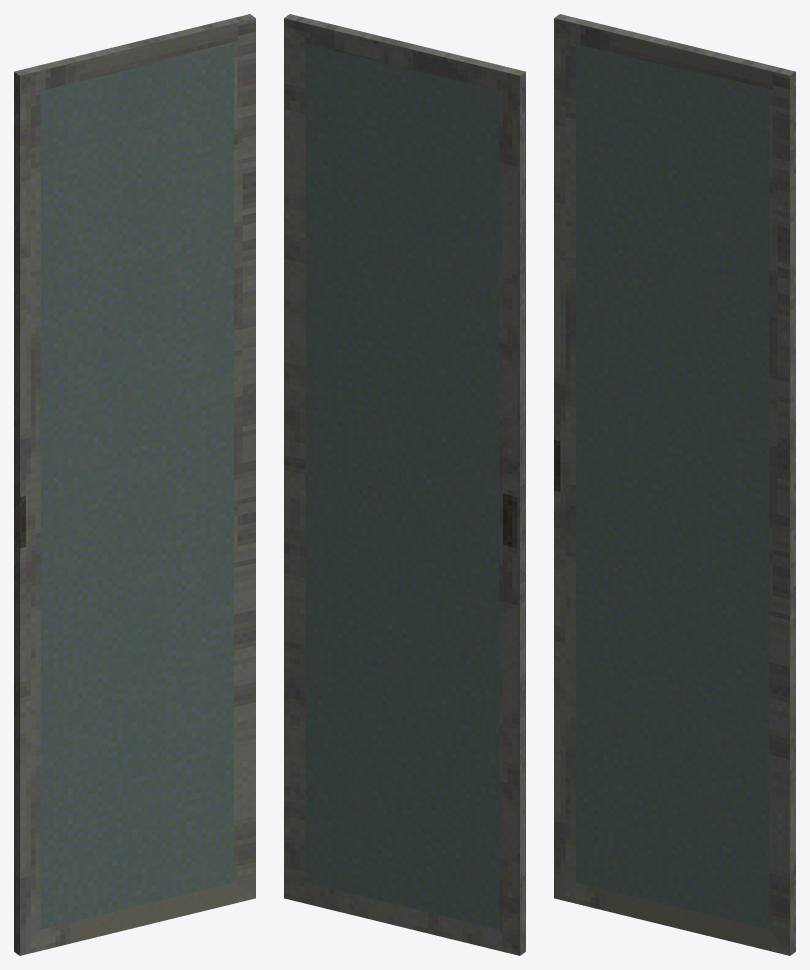
Rendered from SM_MedStorage_Unit_1_DL.fbx.
3 renders of one model, left to right at view 1: azimuth 30°, elevation 25°; view 2: azimuth 150°, elevation 25°; view 3: azimuth 330°, elevation 25°, orthographic.
Visible parts, largest first — view 1: SM_MedStorage_Unit_1_DL; view 2: SM_MedStorage_Unit_1_DL; view 3: SM_MedStorage_Unit_1_DL.
Boxes of the visible parts, <box> form: SM_MedStorage_Unit_1_DL: <box>14,14,255,955</box>; SM_MedStorage_Unit_1_DL: <box>284,14,525,955</box>; SM_MedStorage_Unit_1_DL: <box>554,14,795,955</box>.
Bounding box in the file's own units: 46.39 × 165 × 1.97.
